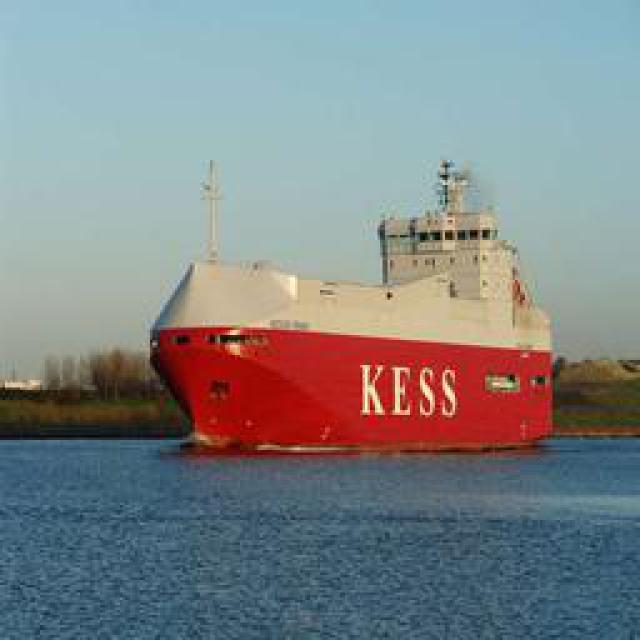Ship: (154, 132, 564, 450)
